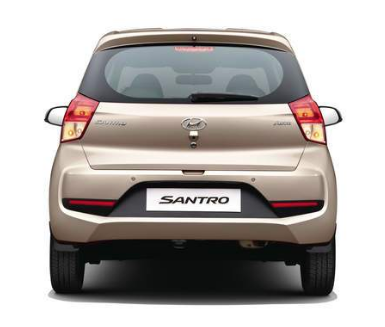car: (43, 25, 344, 305)
